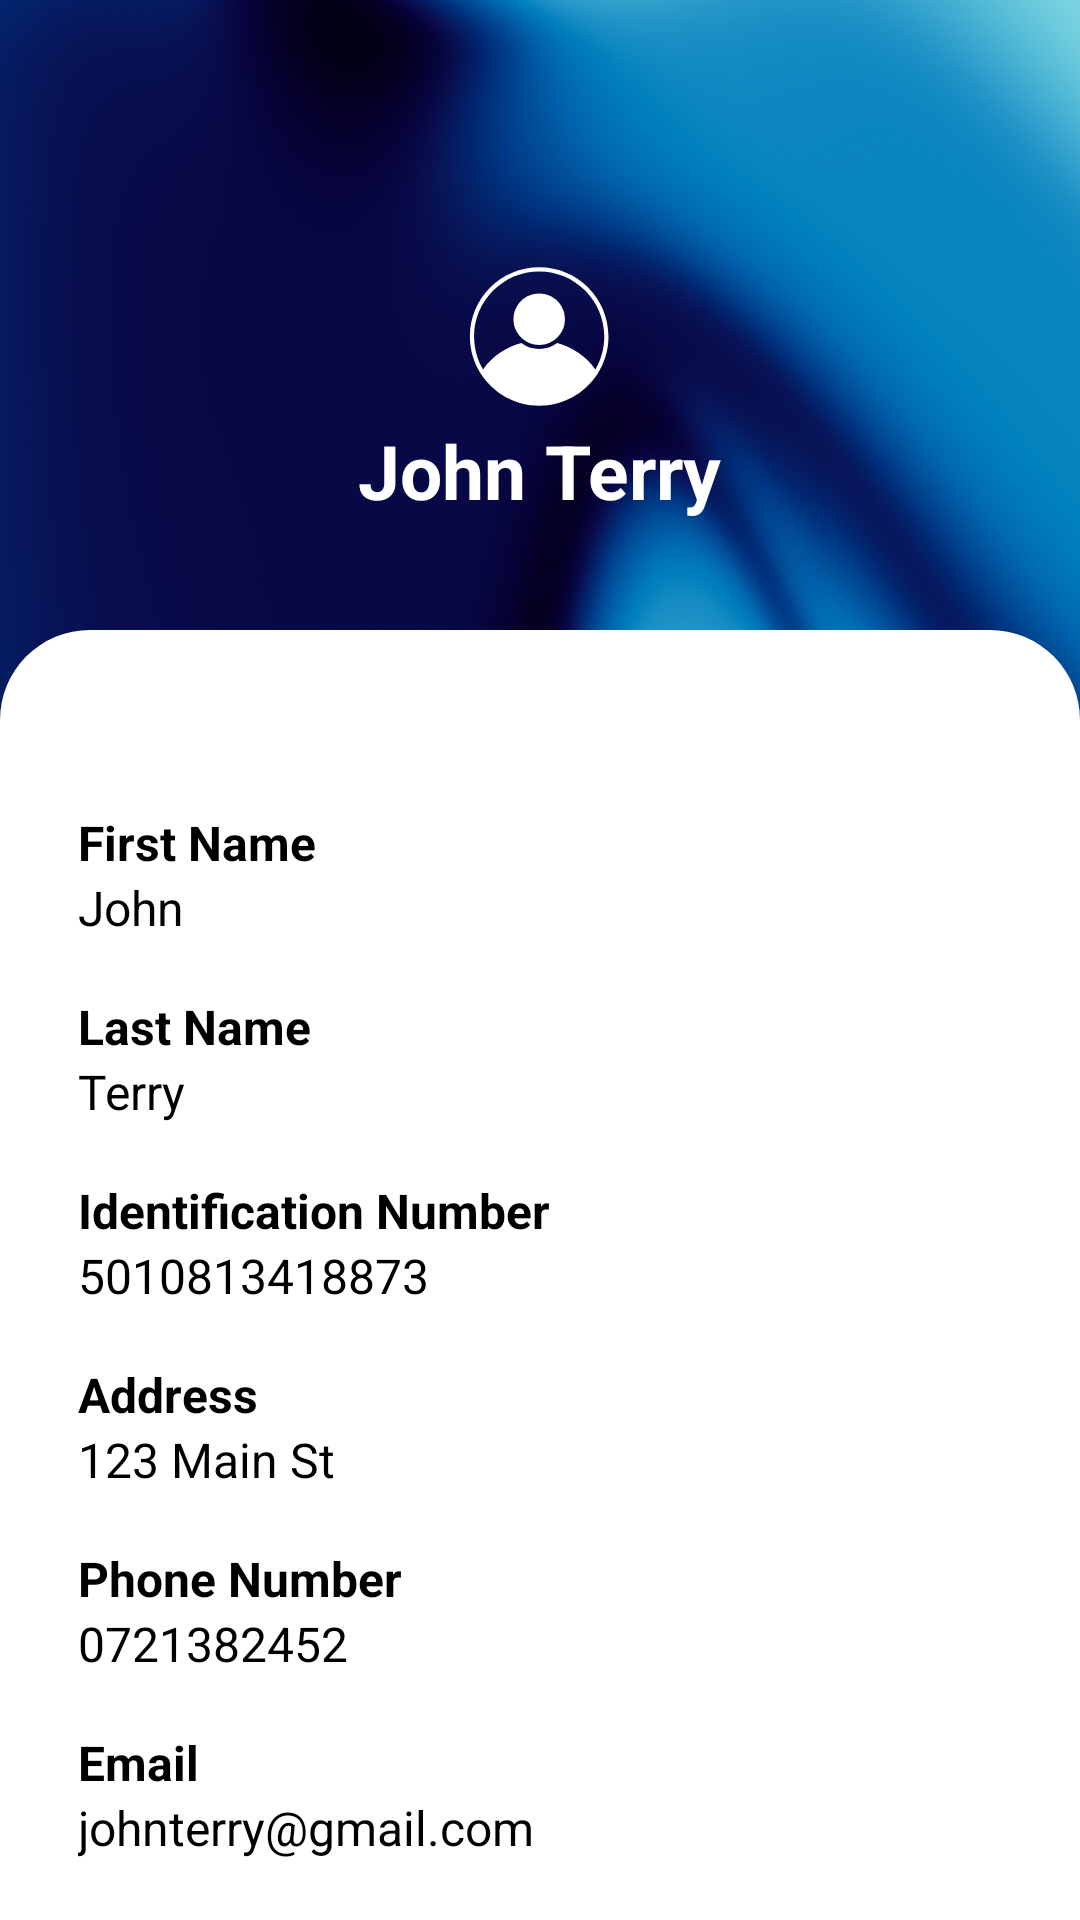

Named icons in this screenshot (1080×1920) and their bounding boxes, {"x1": x1, "y1": y1, "x2": x2, "y2": y2}:
profile picture round: {"x1": 469, "y1": 267, "x2": 609, "y2": 406}
